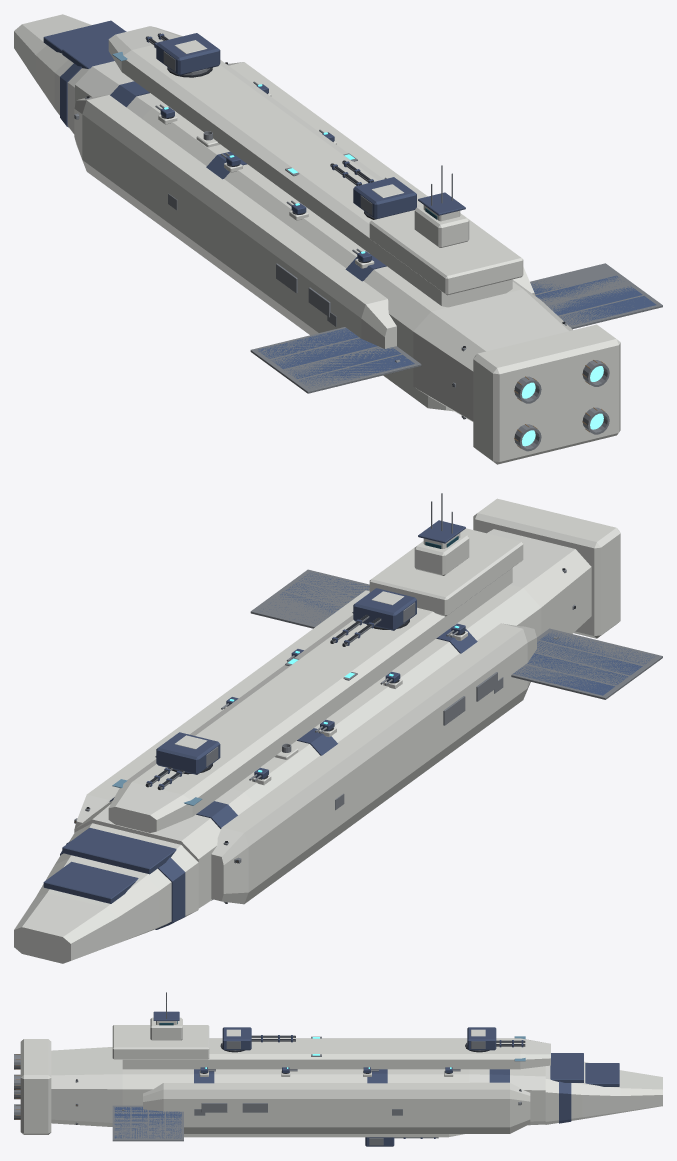
Rendered from battleship_t5.glb.
The picture shows the model from 3 angles, top to bottom: view 1: azimuth 30°, elevation 25°; view 2: azimuth 150°, elevation 25°; view 3: azimuth 270°, elevation 25°; orthographic projection. The views are drawn at different scales.
Visible parts, largest first — view 1: FleetHull, mesh_turret_gun_1, mesh_turret_gun_2; view 2: FleetHull, mesh_turret_gun_1, mesh_turret_gun_2; view 3: FleetHull, mesh_turret_gun_1, mesh_turret_gun_2, mesh_turret_gun_3, mesh_recoil_gun_2.
Part boxes in pixels (x1,y1,x2,y2): FleetHull: (14,14,662,464); mesh_turret_gun_1: (156,33,220,75); mesh_turret_gun_2: (353,177,416,219); FleetHull: (14,493,662,963); mesh_turret_gun_1: (156,732,220,774); mesh_turret_gun_2: (353,588,416,630); FleetHull: (14,992,662,1141); mesh_turret_gun_1: (466,1027,496,1050); mesh_turret_gun_2: (222,1027,251,1050); mesh_turret_gun_3: (365,1137,394,1146); mesh_recoil_gun_2: (251,1035,295,1042).
Bounding box in the file's own units: 500 × 322 × 1273.
